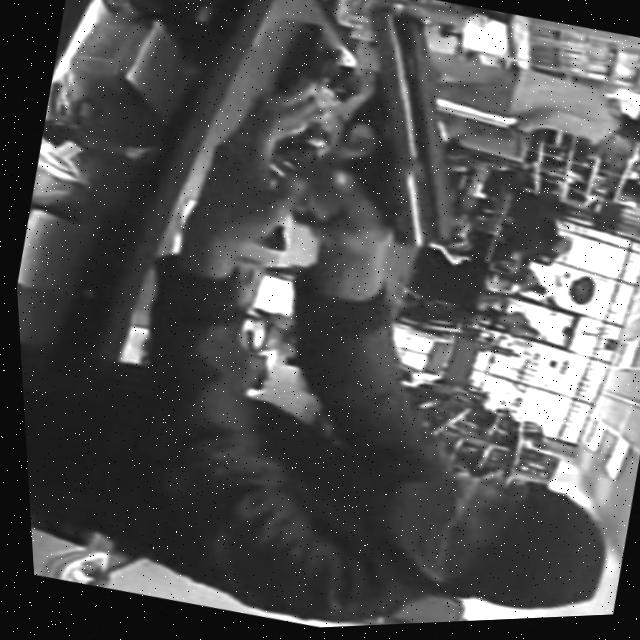pistol: (310, 0, 507, 265)
